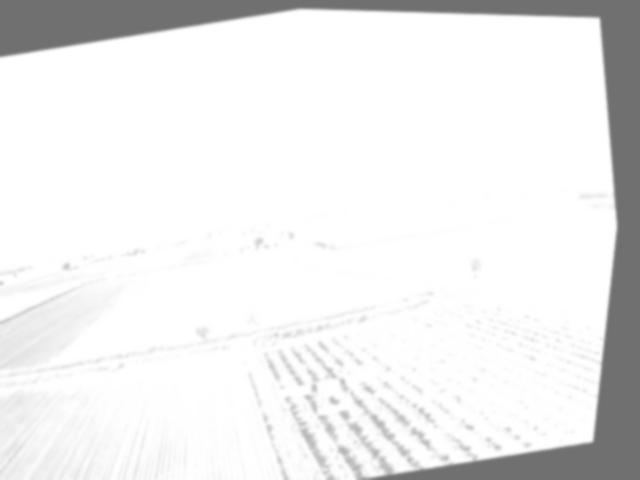hedef: (274, 350, 399, 421)
